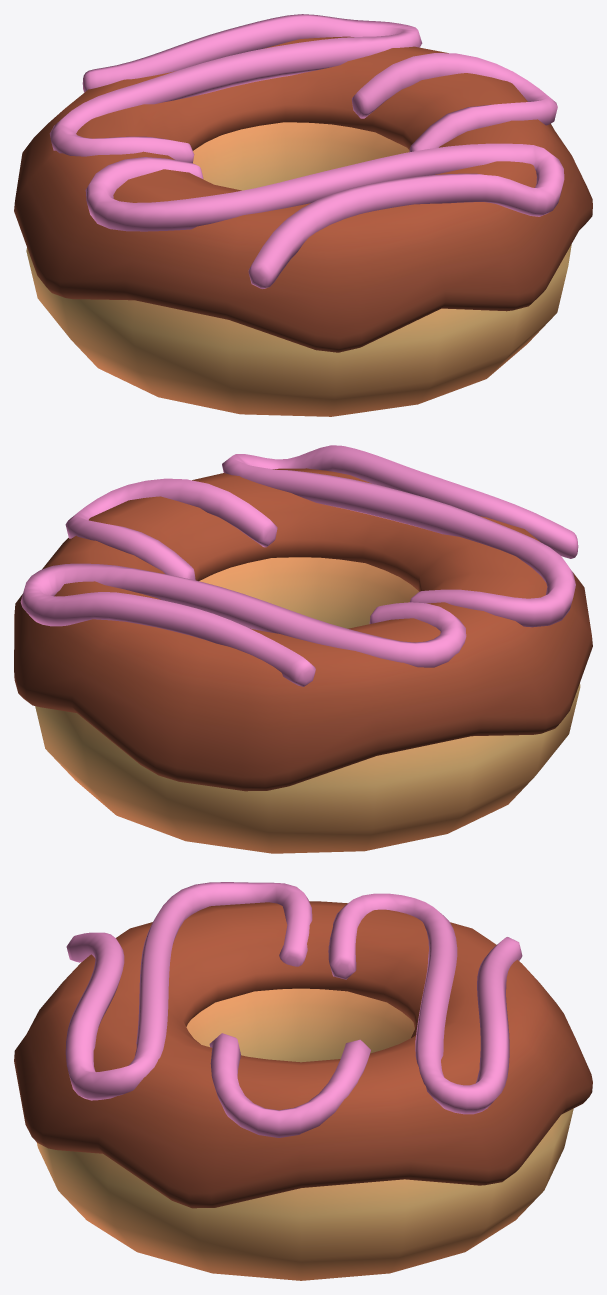
Rendered from Donut_V2_00.fbx.
The picture shows the model from 3 angles, top to bottom: view 1: azimuth 30°, elevation 25°; view 2: azimuth 150°, elevation 25°; view 3: azimuth 270°, elevation 25°; orthographic projection.
Parts seen in each view (by area): view 1: Donut_V2_00; view 2: Donut_V2_00; view 3: Donut_V2_00.
Part boxes in pixels (box(x1,y1,x2,y2)): Donut_V2_00: box(14, 14, 592, 416); Donut_V2_00: box(14, 445, 592, 853); Donut_V2_00: box(14, 882, 592, 1280).
Size of the model in its own units: 42.98 by 18.23 by 43.01.
